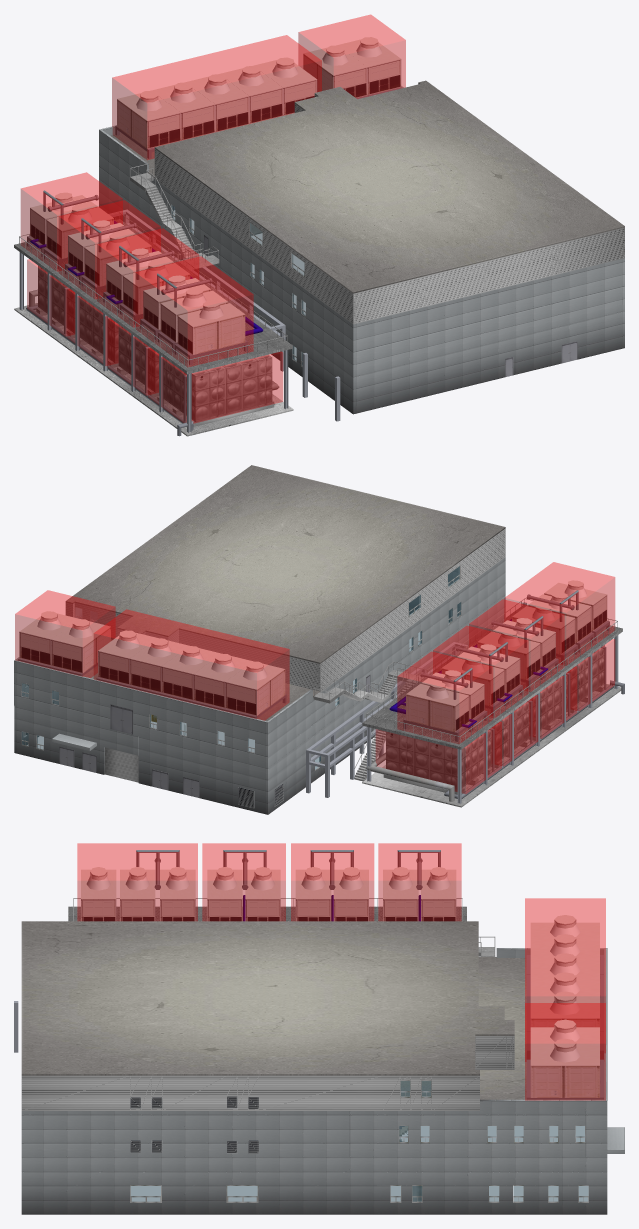
The picture shows the model from 3 angles, top to bottom: view 1: azimuth 30°, elevation 25°; view 2: azimuth 150°, elevation 25°; view 3: azimuth 270°, elevation 25°; orthographic projection. The views are drawn at different scales.
Visible parts, largest first — view 1: ROOF, 1F, Line984, UT-out-03, equipment-UT-OUT-002, UT-out-02, Rectangle1477, UT-out-01, equipment-UT-OUT-006, equipment-UT-OUT-001, equipment-UT-OUT-010, equipment-UT-OUT-004 (+13 smaller); view 2: ROOF, 1F, Line984, equipment-UT-OUT-002, UT-out-03, UT-out-02, UT-out-01, Rectangle1477, equipment-UT-OUT-003, equipment-UT-OUT-006, equipment-UT-OUT-001, equipment-UT-OUT-005 (+15 smaller); view 3: ROOF, 1F, Line984, UT-out-03, Rectangle1477, UT-out-02, equipment-UT-OUT-002, equipment-UT-OUT-006, equipment-UT-OUT-001, equipment-UT-OUT-003, equipment-UT-OUT-005, equipment-UT-OUT-004 (+5 smaller).
Part boxes in pixels (x1,y1,x2,y2): ROOF: (154, 80, 624, 293); 1F: (99, 178, 624, 421); Line984: (99, 139, 624, 363); UT-out-03: (27, 190, 263, 365); equipment-UT-OUT-002: (112, 35, 321, 159); UT-out-02: (115, 37, 401, 158); Rectangle1477: (154, 84, 624, 324); UT-out-01: (26, 265, 279, 436); equipment-UT-OUT-006: (135, 256, 253, 367); equipment-UT-OUT-001: (298, 14, 405, 98); equipment-UT-OUT-010: (148, 348, 282, 423); equipment-UT-OUT-004: (59, 200, 160, 299); ROOF: (65, 465, 505, 663); 1F: (14, 580, 526, 814); Line984: (14, 557, 505, 767); equipment-UT-OUT-002: (94, 609, 289, 720); UT-out-03: (389, 580, 609, 741); UT-out-02: (18, 611, 286, 718); UT-out-01: (365, 645, 624, 801); Rectangle1477: (65, 528, 505, 692); equipment-UT-OUT-003: (397, 651, 492, 743); equipment-UT-OUT-006: (504, 562, 614, 665); equipment-UT-OUT-001: (15, 590, 115, 677); equipment-UT-OUT-005: (469, 599, 564, 691); ROOF: (21, 921, 514, 1075); 1F: (14, 1001, 607, 1214); Line984: (21, 1111, 607, 1156); UT-out-03: (81, 850, 456, 921); Rectangle1477: (21, 1036, 514, 1110); UT-out-02: (526, 915, 603, 1099); equipment-UT-OUT-002: (525, 898, 605, 1061); equipment-UT-OUT-006: (77, 843, 197, 920); equipment-UT-OUT-001: (525, 1003, 605, 1100); equipment-UT-OUT-003: (378, 843, 461, 920); equipment-UT-OUT-005: (202, 843, 285, 920); equipment-UT-OUT-004: (291, 843, 373, 920).
Bounding box in the file's own units: 52.54 × 17.8 × 56.99.
37 materials, 31 textured.
